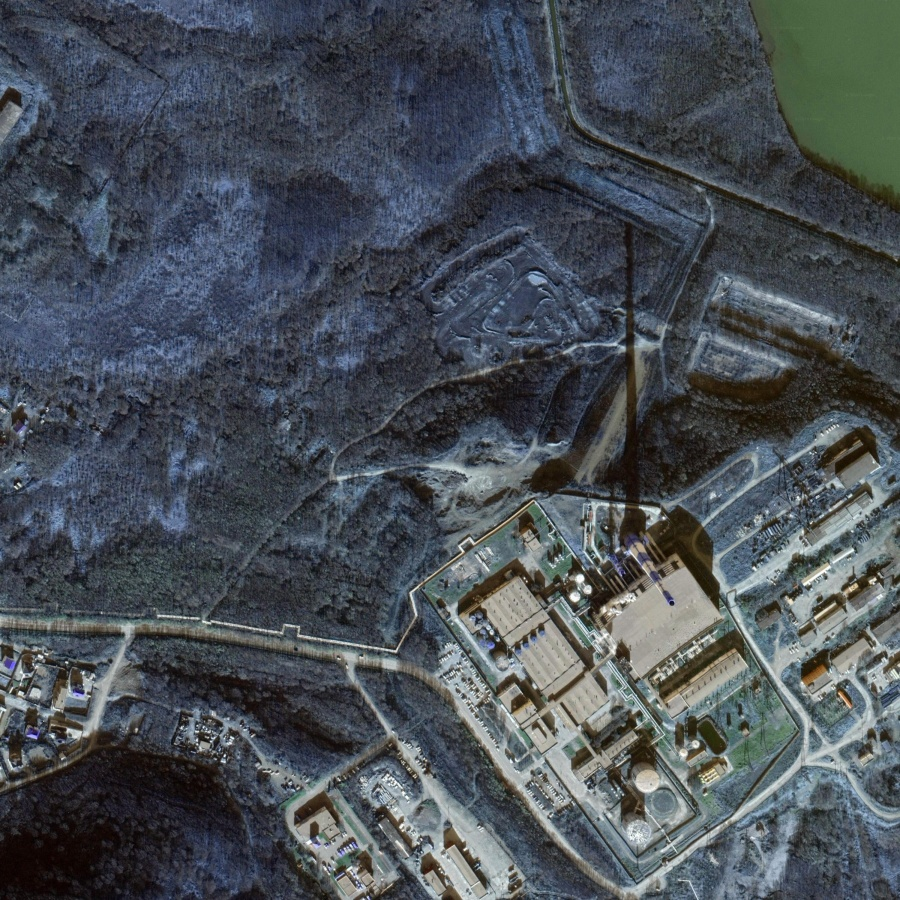PowerPlant: (456, 485, 771, 849)
